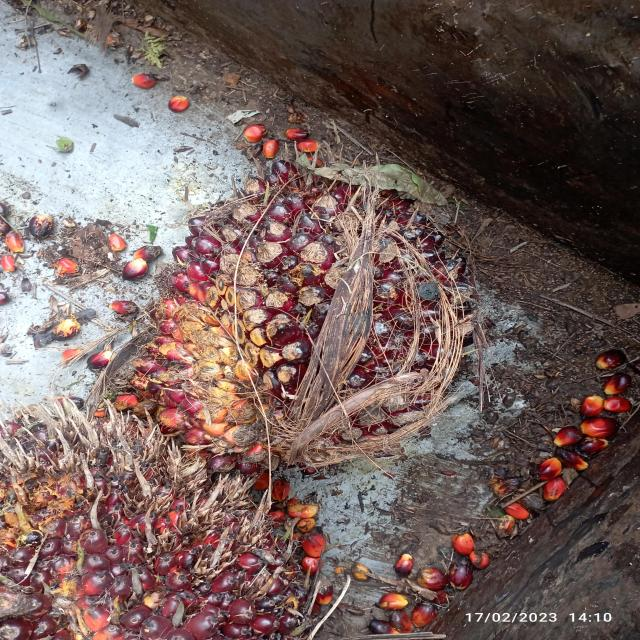fraksi 1: (115, 113, 488, 503), (0, 400, 352, 640)
